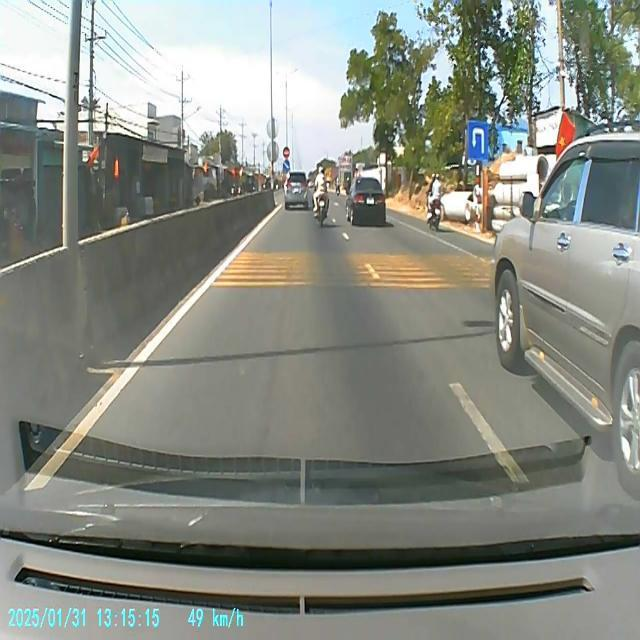102-cam-di-nguoc-chieu: (282, 146, 290, 158)
302a-huong-phai-di-vong-chuong-ngai-vat-1: (282, 159, 290, 173)
